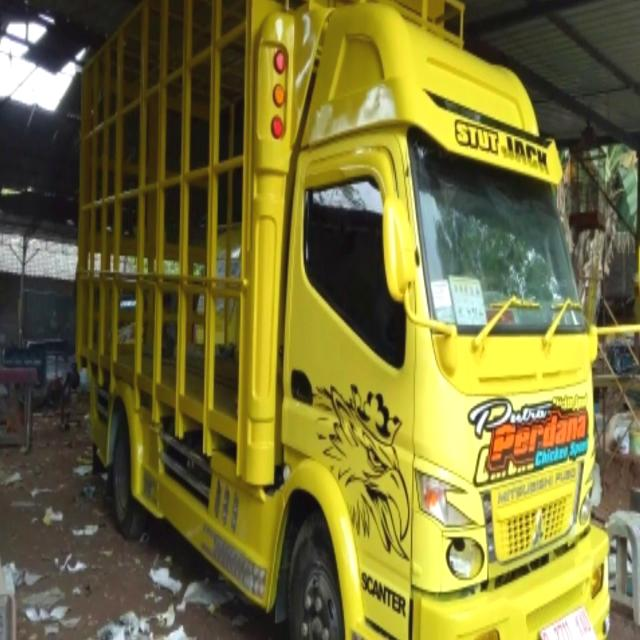truck: (71, 20, 606, 640)
